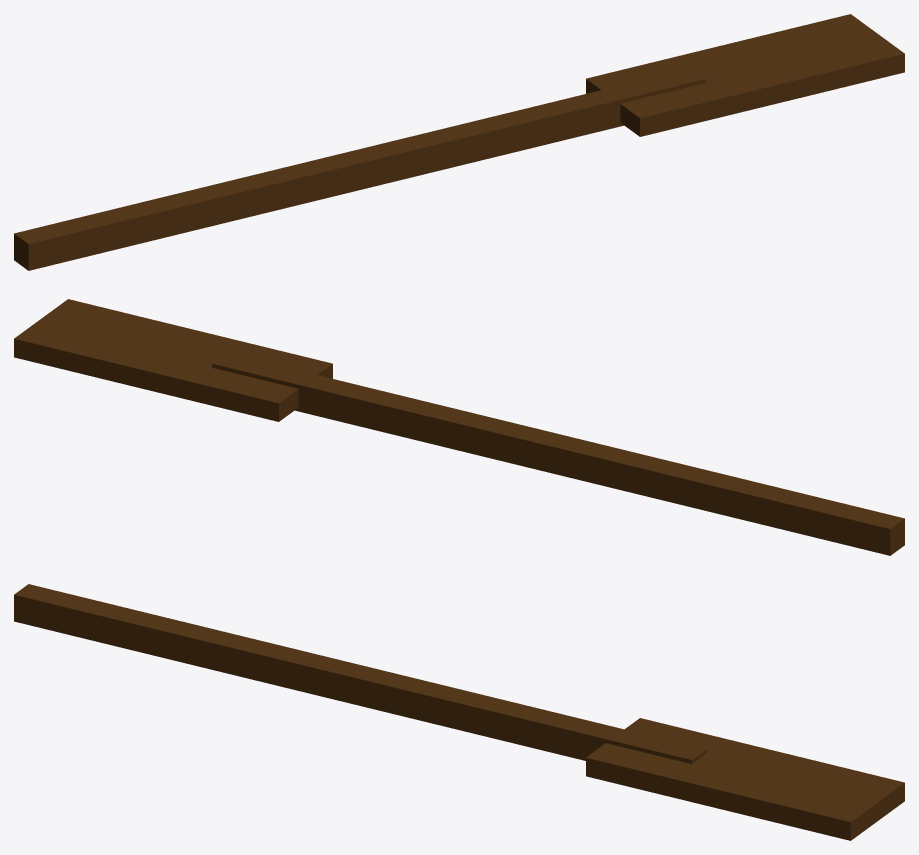
File: ForestPaddle.fbx
3 views of the same model, one above another, from view 1: azimuth 30°, elevation 25°; view 2: azimuth 150°, elevation 25°; view 3: azimuth 330°, elevation 25° (orthographic).
Parts seen in each view (by area): view 1: ForestPaddle; view 2: ForestPaddle; view 3: ForestPaddle.
Boxes of the visible parts, box(x1,y1,x2,y2) form: ForestPaddle: box(14, 14, 904, 270); ForestPaddle: box(14, 299, 904, 555); ForestPaddle: box(14, 584, 904, 840).
Size of the model in its own units: 34.55 by 1.03 by 3.79.
